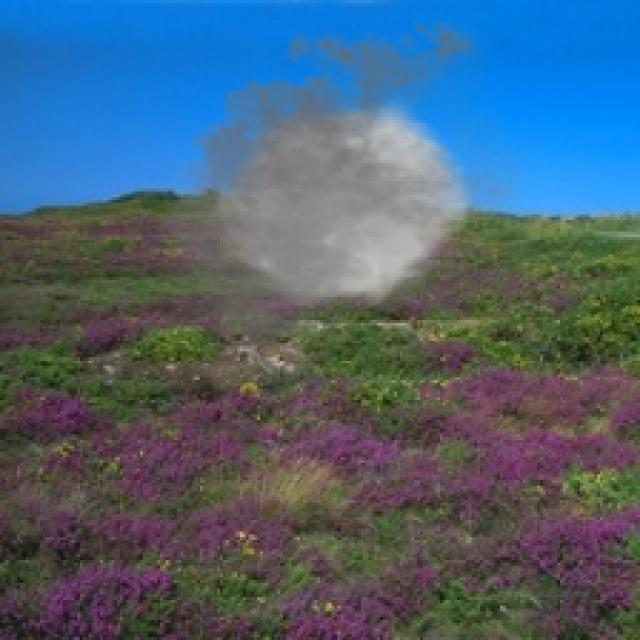Smoke: (140, 12, 543, 357)
